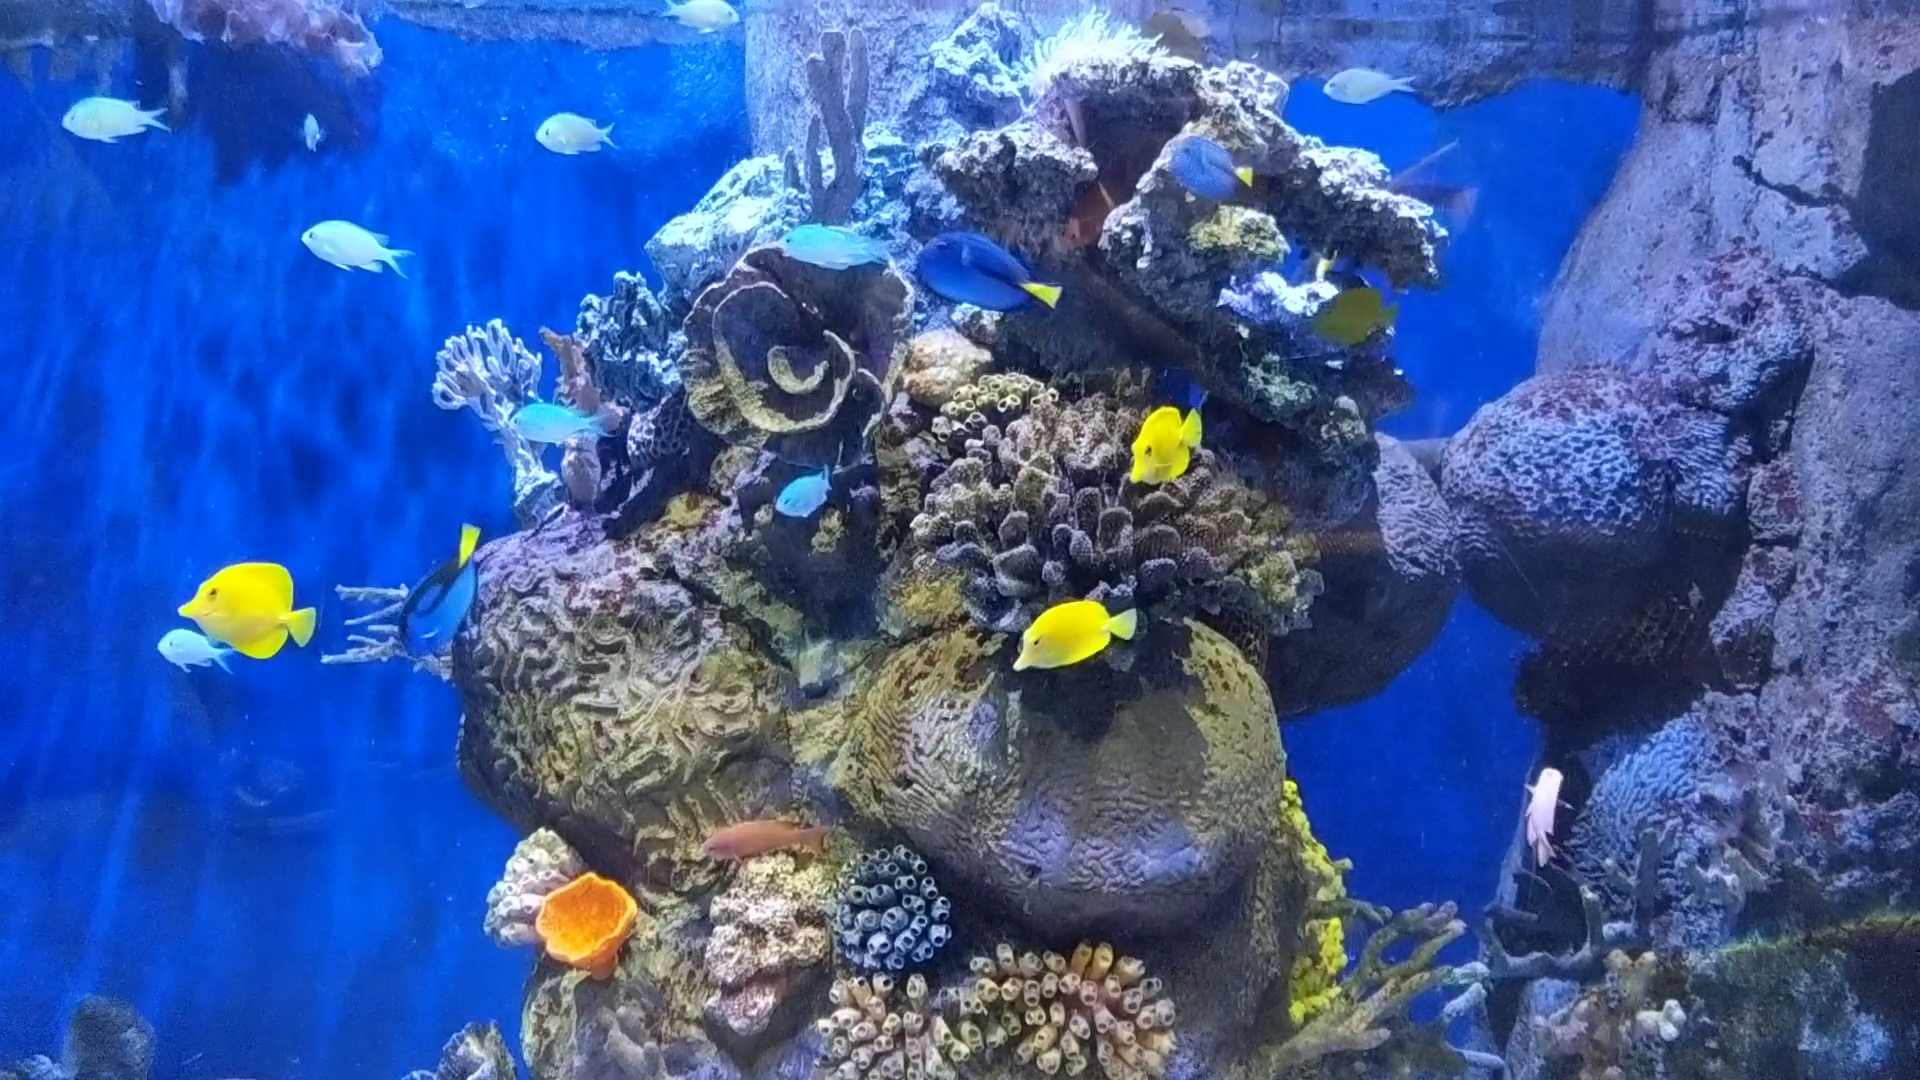blue tang surgeonfish: (905, 214, 1075, 322), (380, 526, 498, 669), (1151, 119, 1269, 204)
damselfish: (294, 207, 418, 295), (41, 73, 174, 149), (769, 207, 901, 276), (492, 390, 603, 448), (133, 618, 240, 678), (1316, 55, 1432, 109), (527, 105, 618, 161), (771, 465, 837, 524), (651, 0, 745, 37), (286, 103, 334, 153)
pink fish: (1509, 750, 1580, 862)
saddle butterfly fish: (167, 546, 326, 678), (1004, 574, 1153, 684), (1113, 392, 1215, 495)
